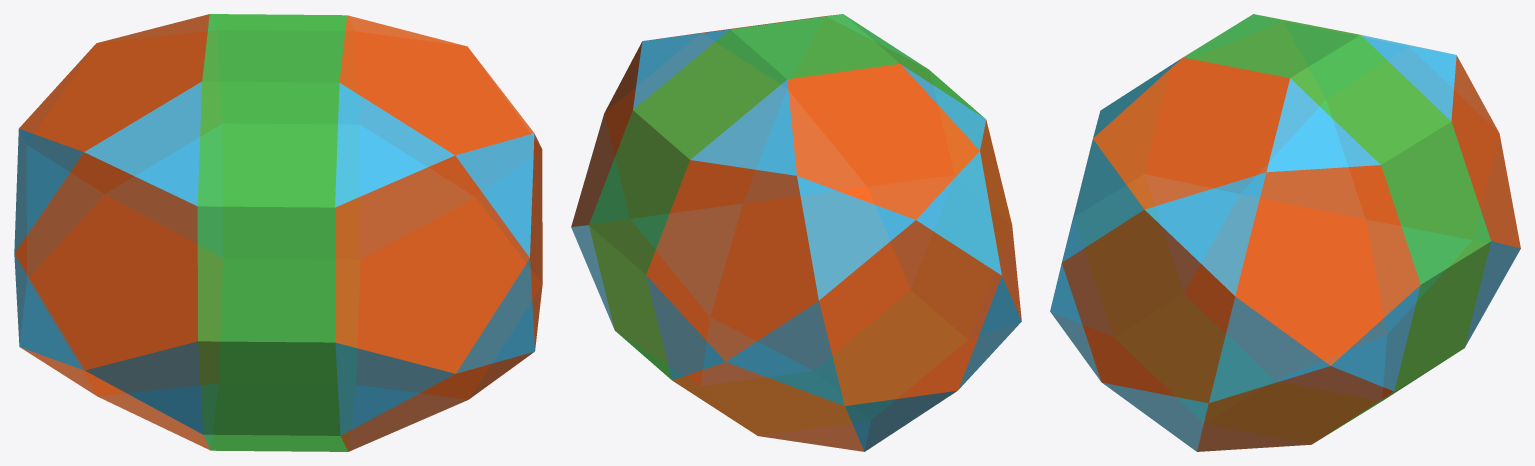
File: j42_elongated_pentagonal_orthobirotunda.obj
3 renders of one model, left to right at view 1: azimuth 30°, elevation 25°; view 2: azimuth 150°, elevation 25°; view 3: azimuth 270°, elevation 25°, orthographic. The views are drawn at different scales.
Size of the model in its own units: 2.17 by 1.71 by 1.98.
